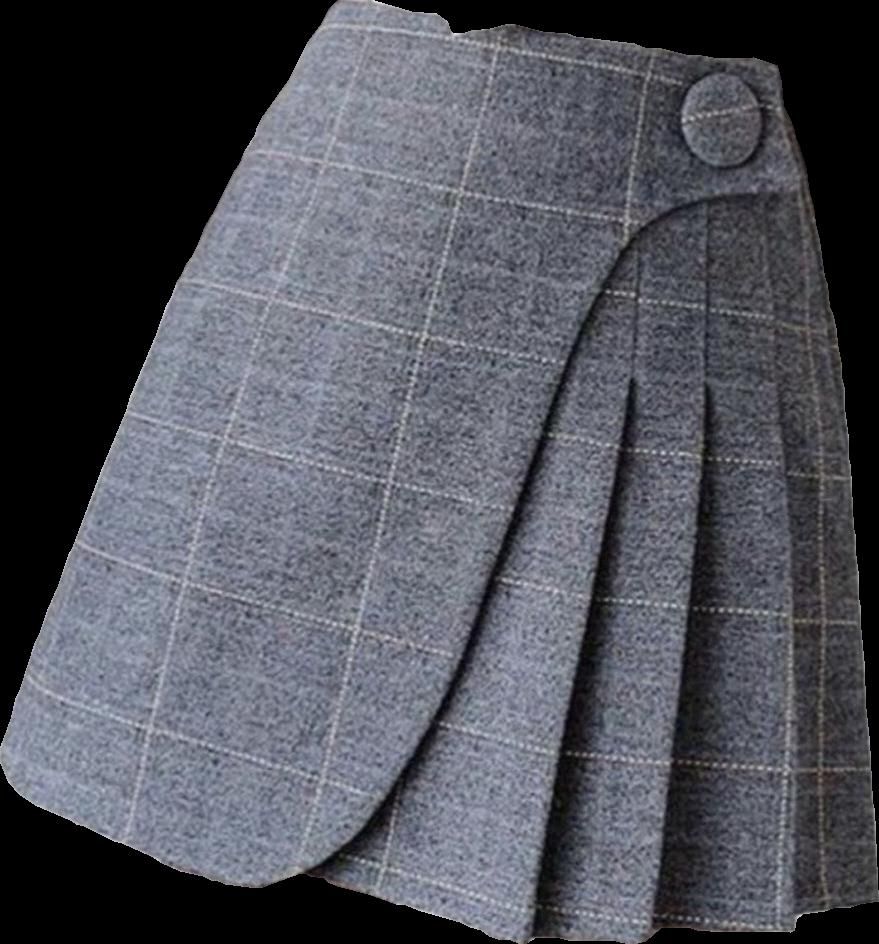Hemline: (314, 873, 878, 943)
Waistline: (0, 191, 812, 894), (331, 0, 779, 75)
